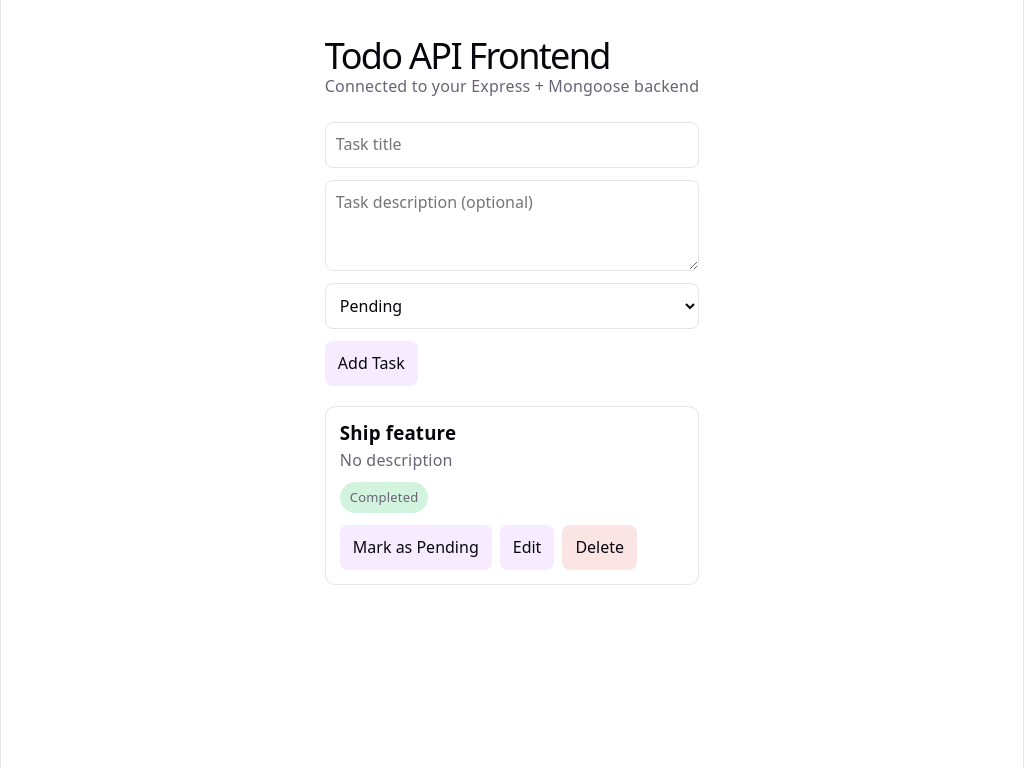
App › toggles task status from completed to pending
Expected: the heading "Ship feature" is shown, [340,420,456,445]
Click the button "Mark as Pending" at (416, 548), box [340,525,492,570]
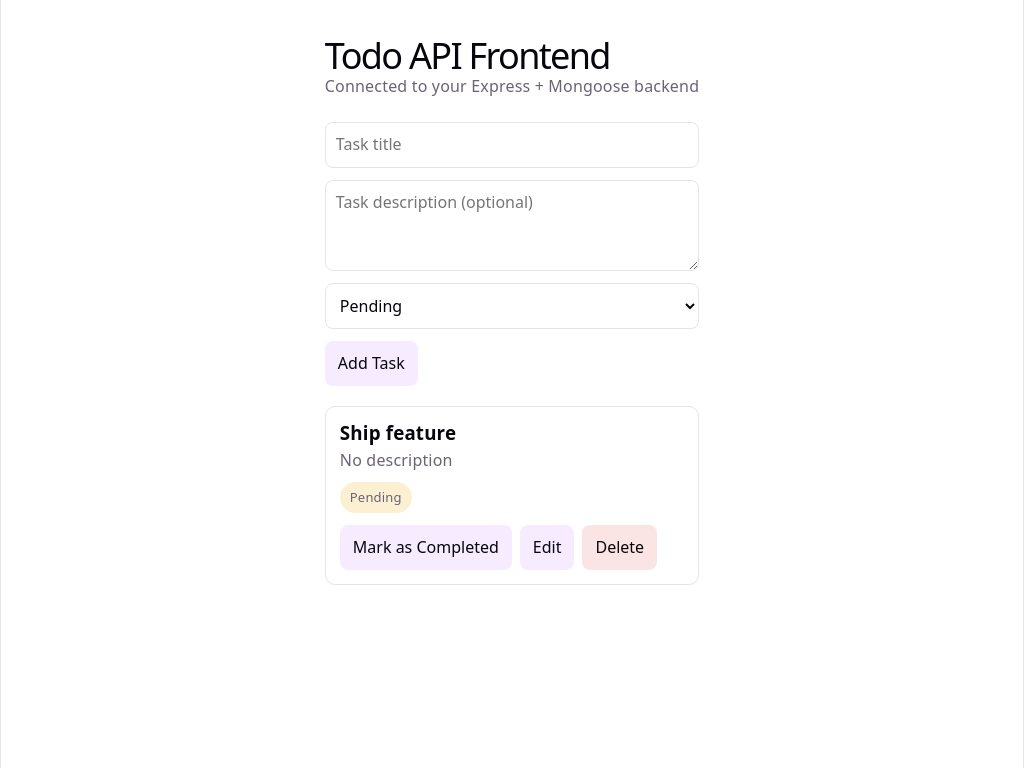
Now the text "pending" is shown, box [340,482,412,513]
